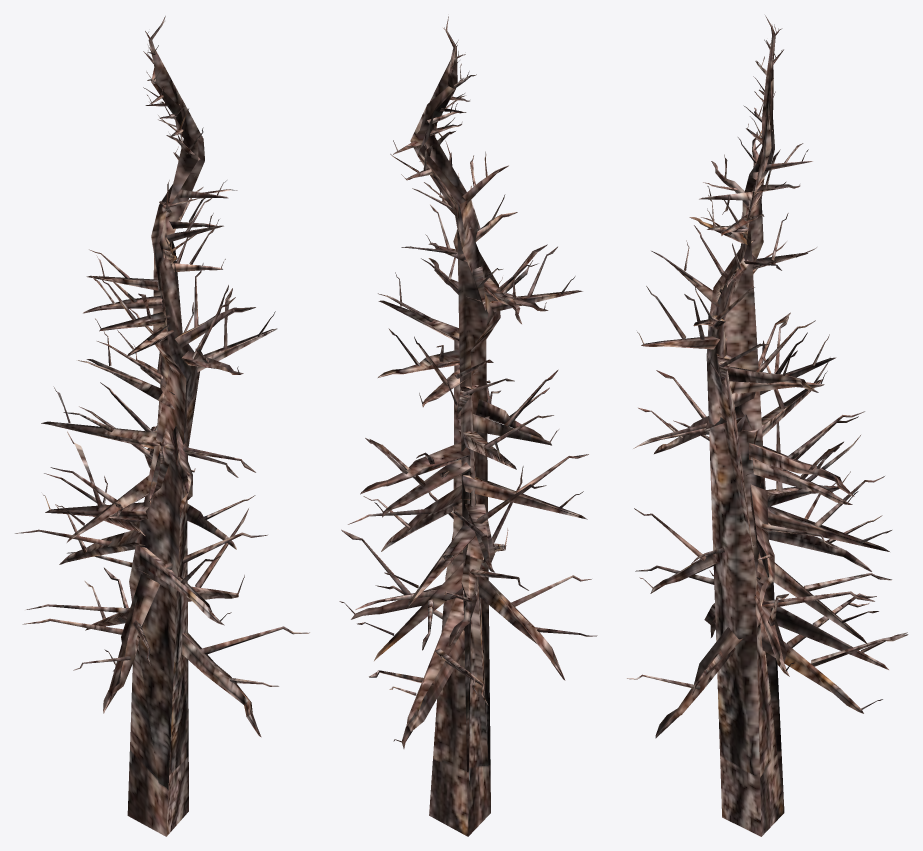
Rendered from TreeB2.fbx.
3 views of the same model, side by side, from view 1: azimuth 30°, elevation 25°; view 2: azimuth 150°, elevation 25°; view 3: azimuth 270°, elevation 25° (orthographic).
Parts seen in each view (by area): view 1: TreeB.002; view 2: TreeB.002; view 3: TreeB.002.
Boxes of the visible parts, x1,y1,x2,y2 form: TreeB.002: (15, 16, 309, 836); TreeB.002: (339, 16, 597, 836); TreeB.002: (627, 15, 908, 836).
Size of the model in its own units: 306 by 1014 by 319.
